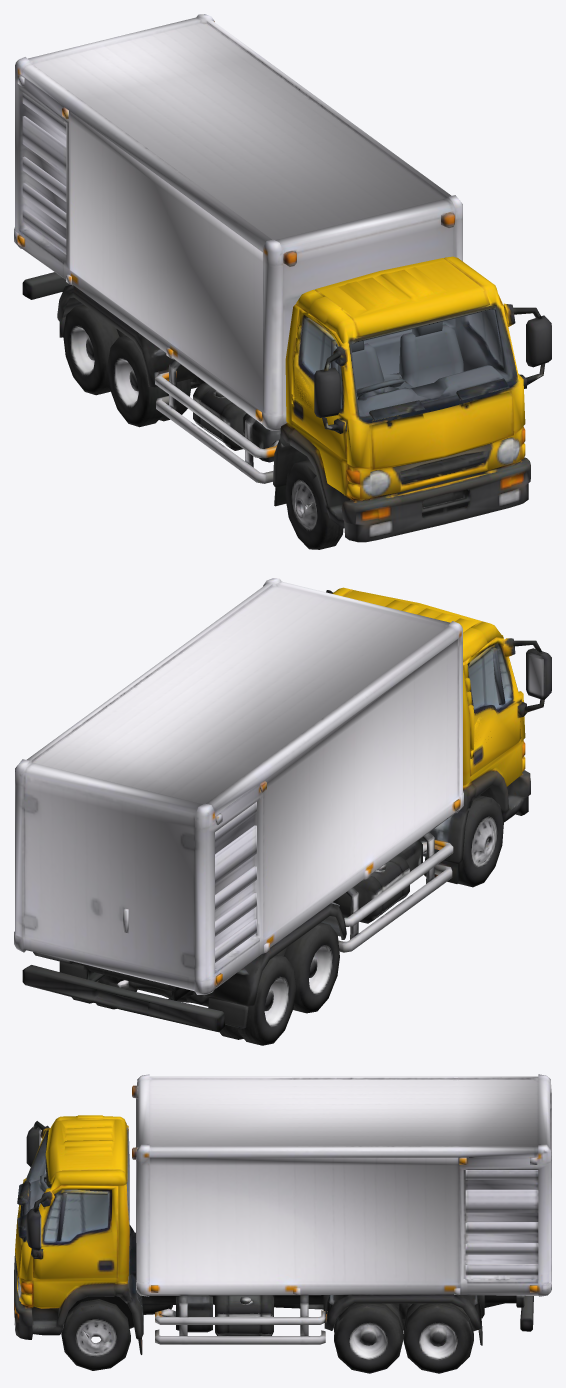
File: truck.glb
3 views of the same model, one above another, from view 1: azimuth 30°, elevation 25°; view 2: azimuth 150°, elevation 25°; view 3: azimuth 270°, elevation 25° (orthographic). The views are drawn at different scales.
Parts seen in each view (by area): view 1: tripo_node_bcf19aa0-c23b-4e72-8e54-909c96adeb9f; view 2: tripo_node_bcf19aa0-c23b-4e72-8e54-909c96adeb9f; view 3: tripo_node_bcf19aa0-c23b-4e72-8e54-909c96adeb9f.
Part boxes in pixels (bbox=[...]): tripo_node_bcf19aa0-c23b-4e72-8e54-909c96adeb9f: bbox=[14, 14, 551, 549]; tripo_node_bcf19aa0-c23b-4e72-8e54-909c96adeb9f: bbox=[14, 578, 551, 1045]; tripo_node_bcf19aa0-c23b-4e72-8e54-909c96adeb9f: bbox=[14, 1074, 551, 1373].
Bounding box in the file's own units: 0.3935 × 0.455 × 0.981.
1 material, 1 textured.
